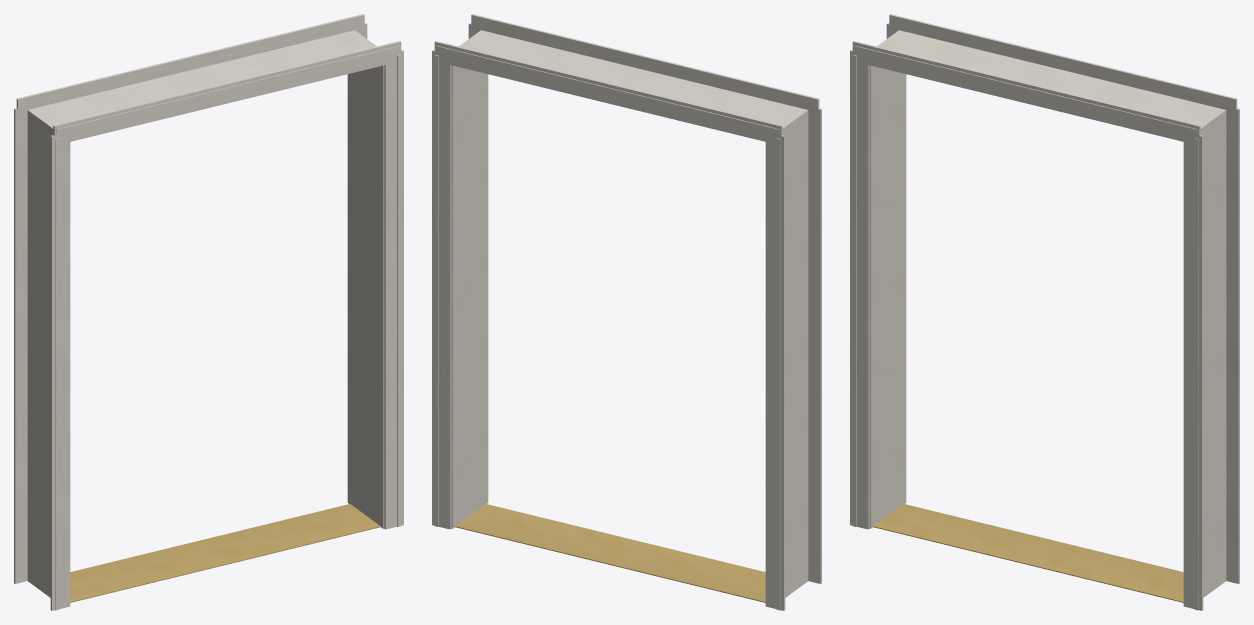
The model's file is frame_swing.glb.
The picture shows the model from 3 angles, left to right: view 1: azimuth 30°, elevation 25°; view 2: azimuth 150°, elevation 25°; view 3: azimuth 330°, elevation 25°; orthographic projection.
Visible parts, largest first — view 1: frame_swing; view 2: frame_swing; view 3: frame_swing.
Boxes of the visible parts, bbox=[...] form: frame_swing: bbox=[14, 14, 403, 610]; frame_swing: bbox=[432, 14, 821, 610]; frame_swing: bbox=[850, 14, 1239, 610].
Size of the model in its own units: 1.72 by 2.26 by 0.33.
Materials: 3 (2 with a texture image).
